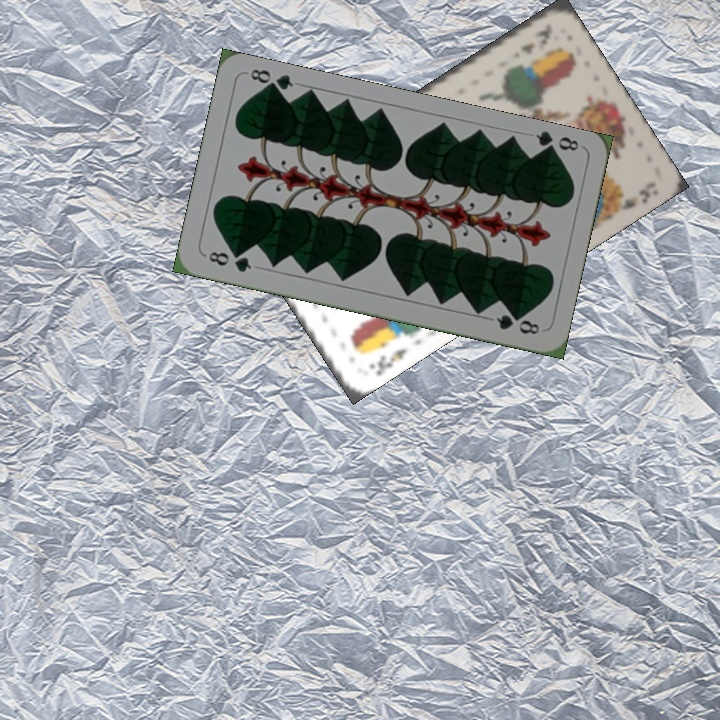EK: (365, 344, 410, 378), (516, 19, 555, 57)
G8: (531, 127, 581, 159), (204, 247, 254, 275)
